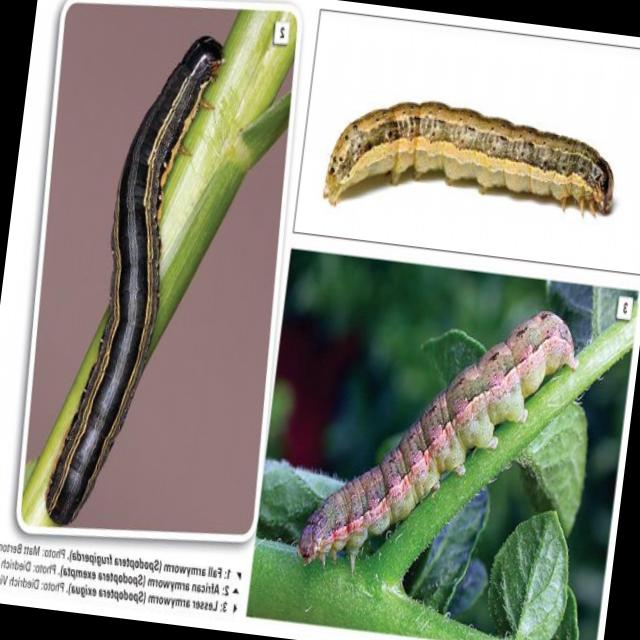armyworm: (288, 278, 590, 622), (40, 8, 234, 540), (319, 81, 631, 250)
